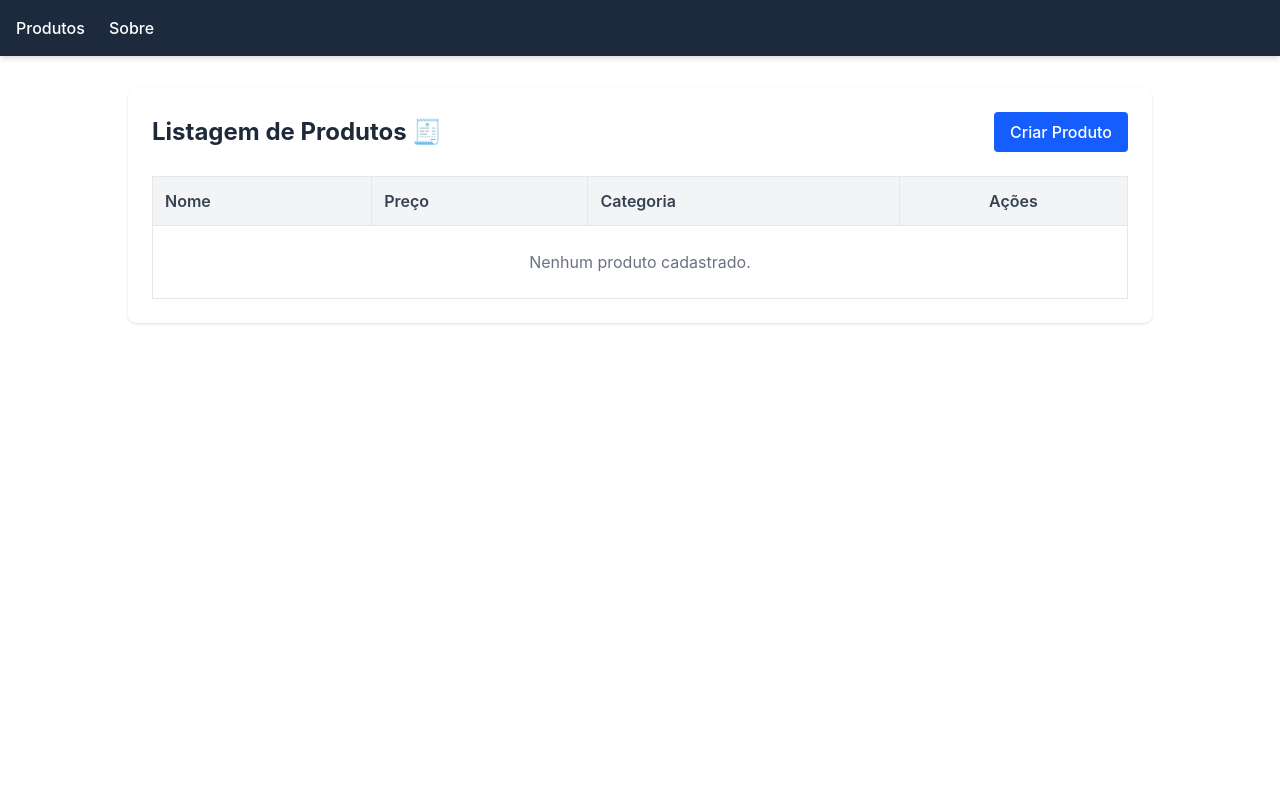
it: RT4 - Fluxo de Navegação pelo Menu › Deve navegar corretamente entre as opções do menu
This screenshot has width=1280, height=800.
Click the link with test id "menu-sobre": (132, 28) [109,18,154,38]
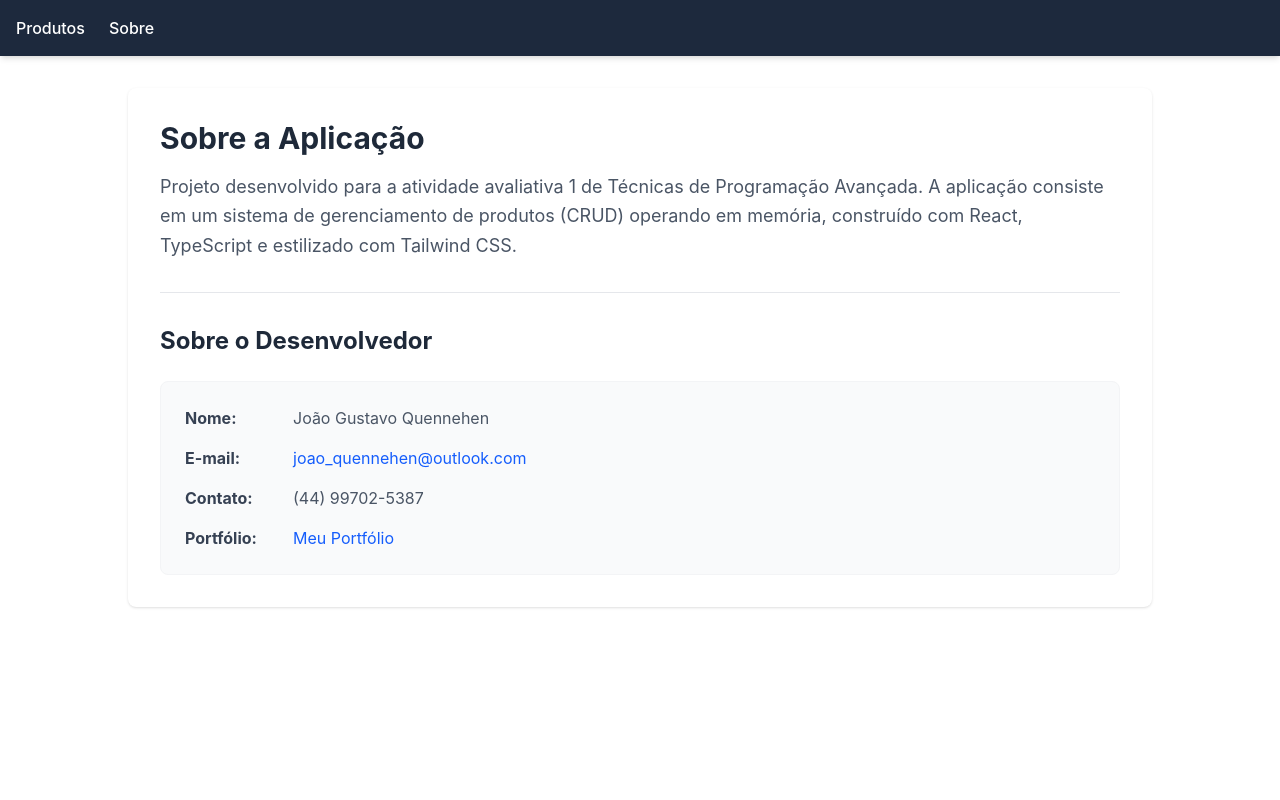
Now the heading "Sobre a Aplicação" is shown, box [160,120,425,156]
Click the link with test id "menu-produtos": (51, 28) [16,18,85,38]
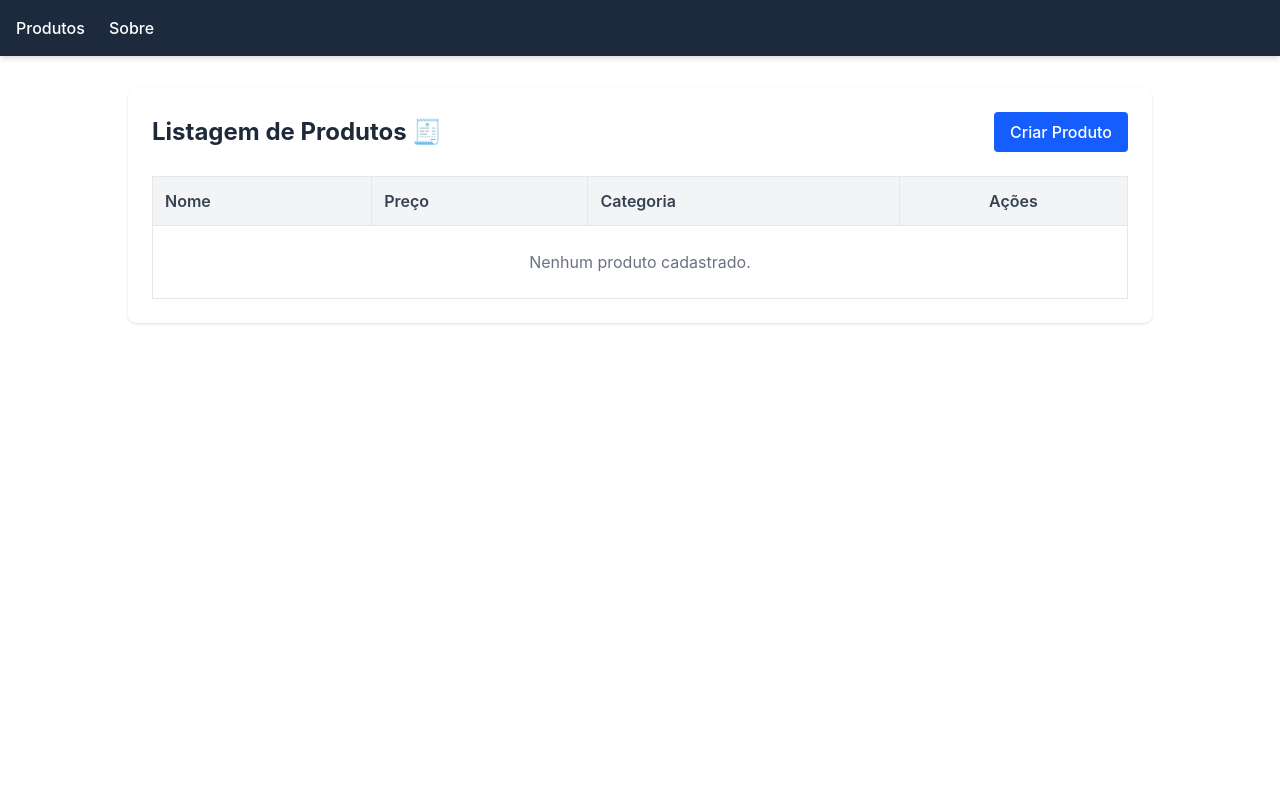
Now the heading "Listagem de Produtos 🧾" is shown, box [152,116,442,148]
